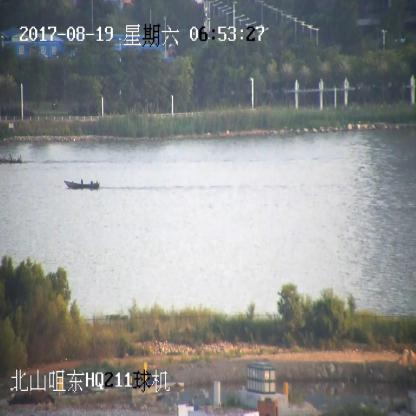Fishing Boat: (65, 178, 99, 190), (1, 153, 24, 165)
